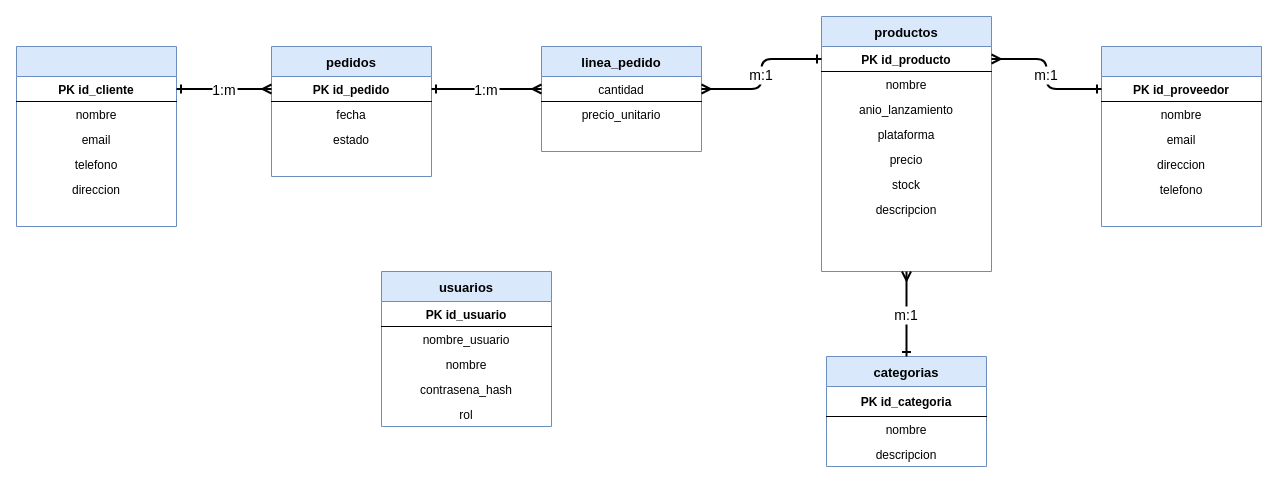
The diagram is 1278 pixels wide and 483 high, and some of its shapes have lost their labels. The shapes that lost their labels are listed below. From the top down, each one's box as (x1, y1, x2, y2) in pixels, then its label:
(16, 46, 176, 226): clientes
(1100, 46, 1262, 226): proveedores
